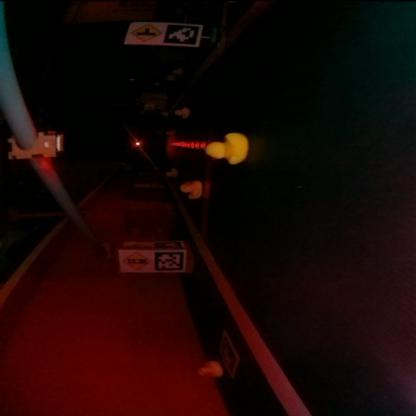Duckie: (206, 133, 246, 163), (180, 181, 201, 199), (198, 362, 220, 377), (174, 109, 187, 118), (166, 171, 174, 177)
Intersection sign: (124, 22, 160, 45)
QR code: (219, 330, 240, 378), (162, 23, 198, 45), (154, 251, 184, 272), (153, 240, 183, 248)
Signal sign: (120, 252, 150, 270)
Traffic light: (10, 132, 61, 158), (133, 142, 141, 146)
